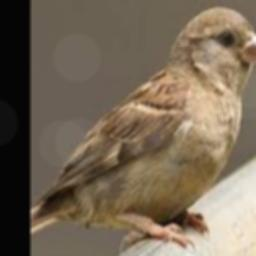Sparrow: (30, 4, 256, 249)
